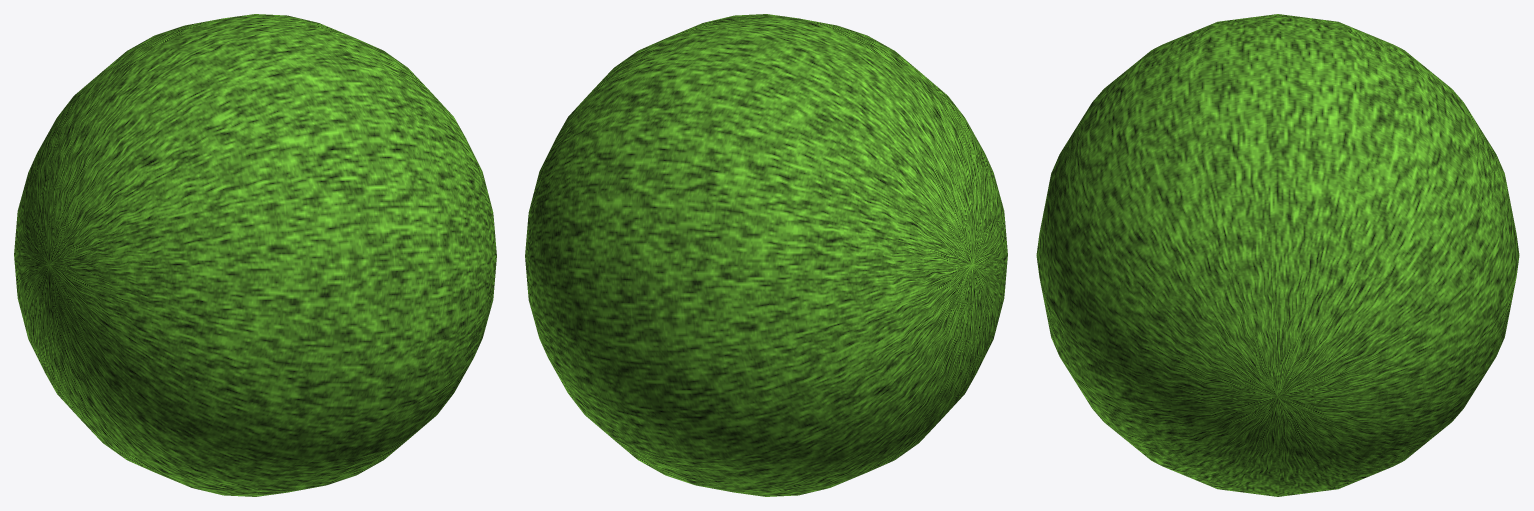
The model's file is marimo.fbx.
The picture shows the model from 3 angles, left to right: view 1: azimuth 30°, elevation 25°; view 2: azimuth 150°, elevation 25°; view 3: azimuth 270°, elevation 25°; orthographic projection.
Parts seen in each view (by area): view 1: pSphere1; view 2: pSphere1; view 3: pSphere1.
Part boxes in pixels (x1,y1,x2,y2): pSphere1: (14,14,496,496); pSphere1: (525,14,1007,496); pSphere1: (1036,14,1519,496).
Size of the model in its own units: 2 by 2 by 2.
